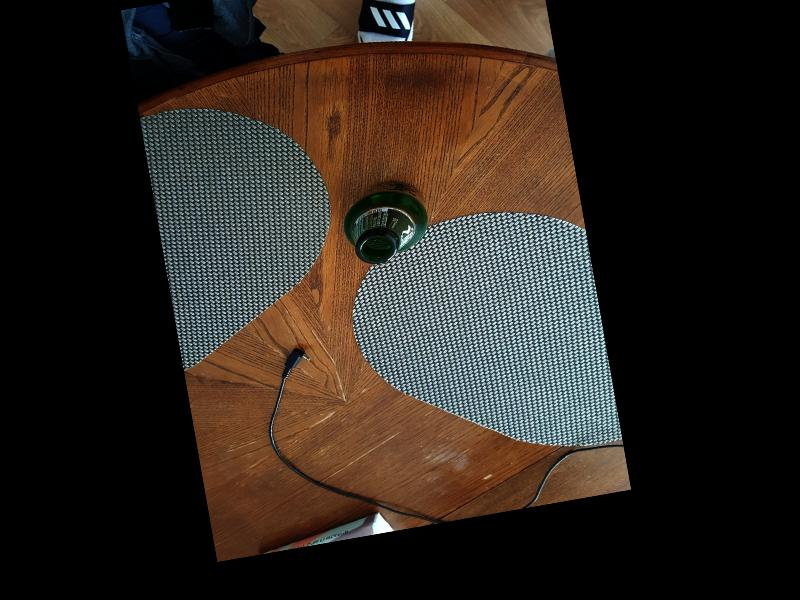Beer: (336, 176, 433, 268)
